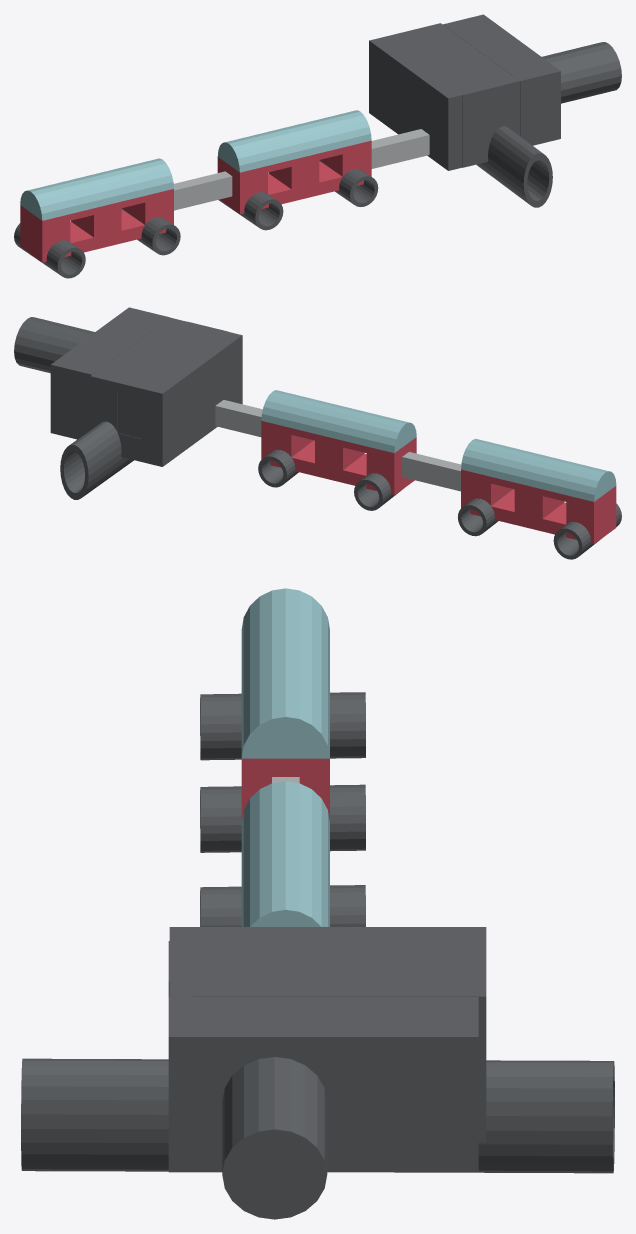
Rendered from PROJECT 150.glb.
The picture shows the model from 3 angles, top to bottom: view 1: azimuth 30°, elevation 25°; view 2: azimuth 150°, elevation 25°; view 3: azimuth 270°, elevation 25°; orthographic projection. The views are drawn at different scales.
Parts seen in each view (by area): view 1: Mesh_Mesh_head_geo.001_lambert2SG.001; view 2: Mesh_Mesh_head_geo.001_lambert2SG.001; view 3: Mesh_Mesh_head_geo.001_lambert2SG.001.
Part boxes in pixels (box(x1,y1,x2,y2)): Mesh_Mesh_head_geo.001_lambert2SG.001: box(14, 14, 621, 278); Mesh_Mesh_head_geo.001_lambert2SG.001: box(14, 307, 621, 559); Mesh_Mesh_head_geo.001_lambert2SG.001: box(21, 588, 614, 1219).
Bounding box in the file's own units: 240 × 38 × 107.
